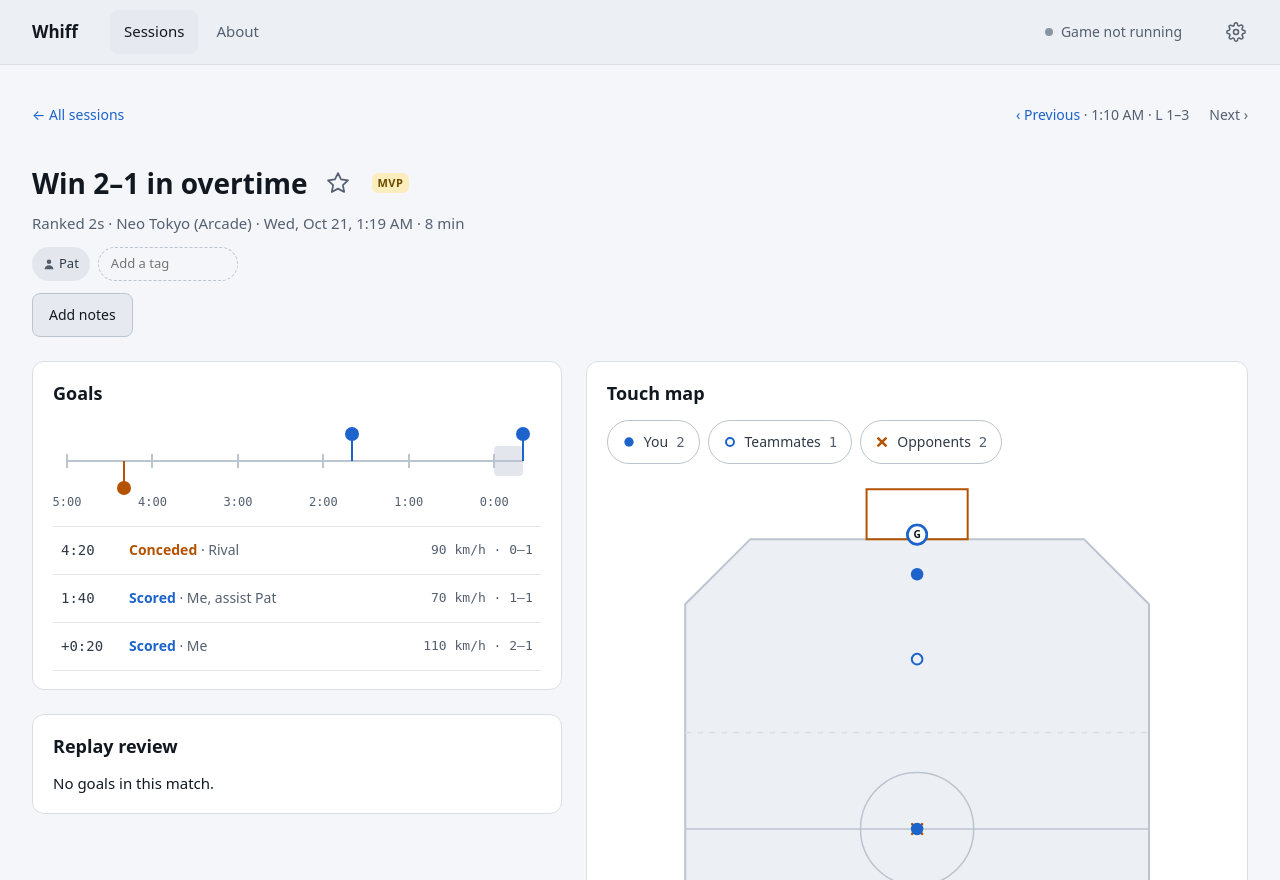
Test case: notes › adds notes to a match without any, and cancels with Escape
Click the button "Add notes" at coordinates (82, 315), box [32,293,133,337]
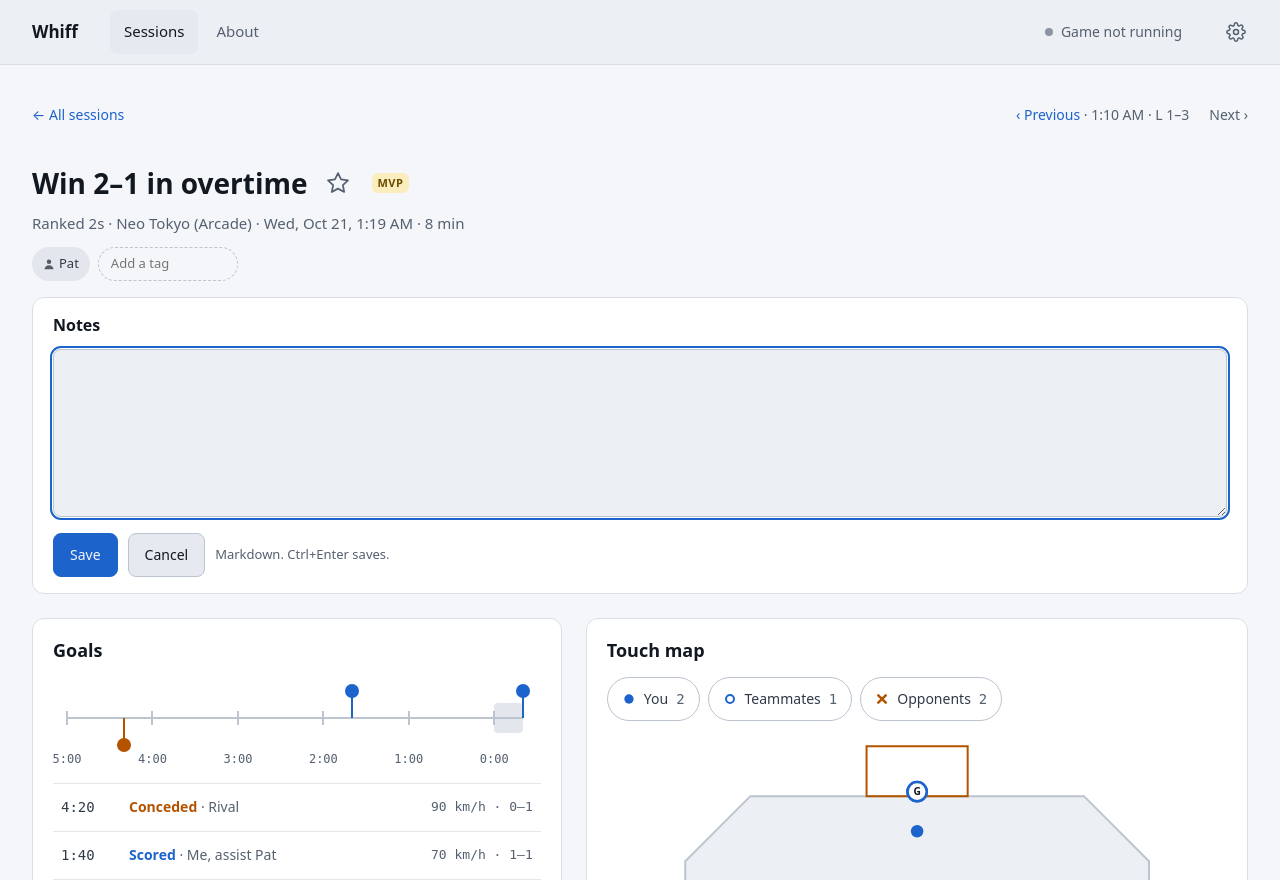
Type "draft" into the text box named "Notes" at coordinates (640, 433), box [53,349,1227,517]
Then press Escape
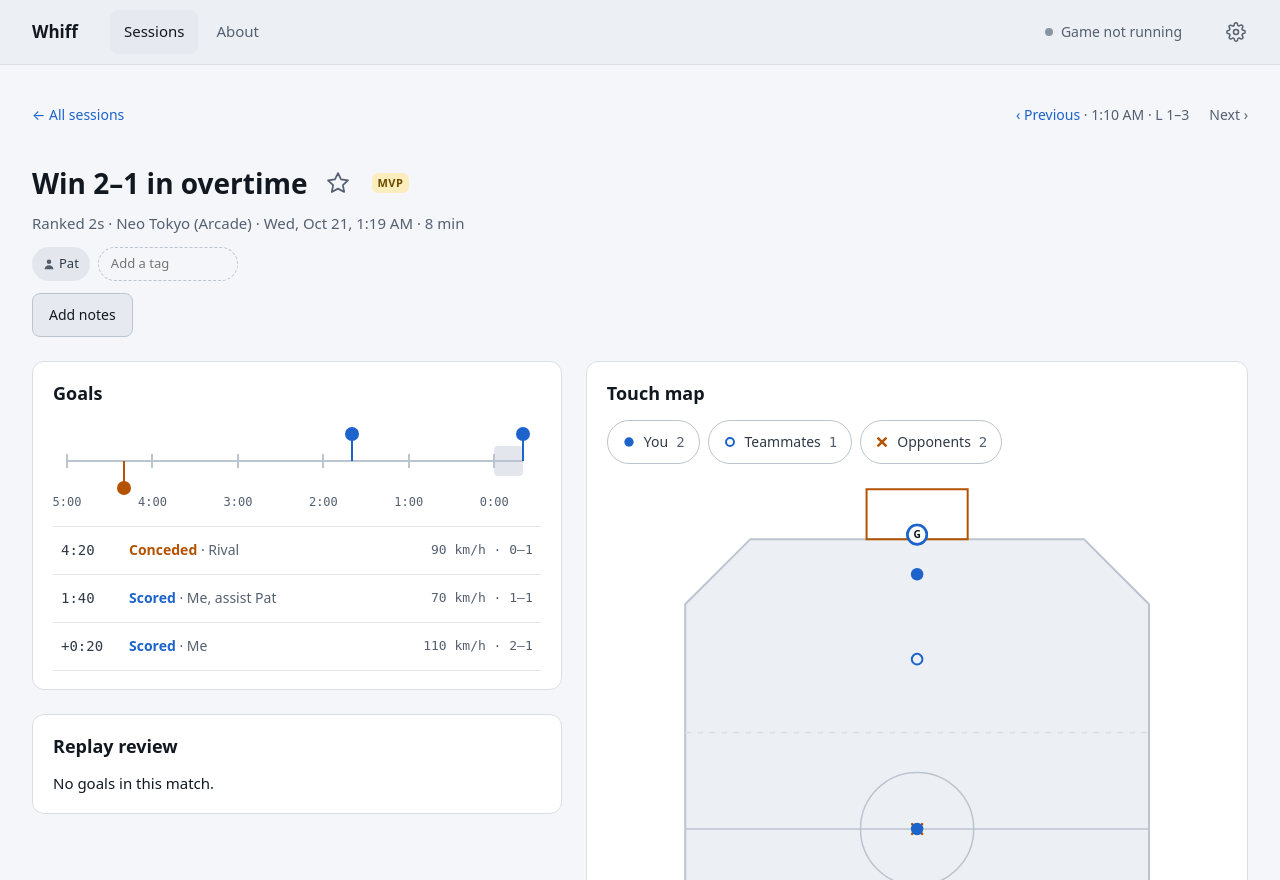
Check: the button "Add notes" is shown, box [32,293,133,337]
